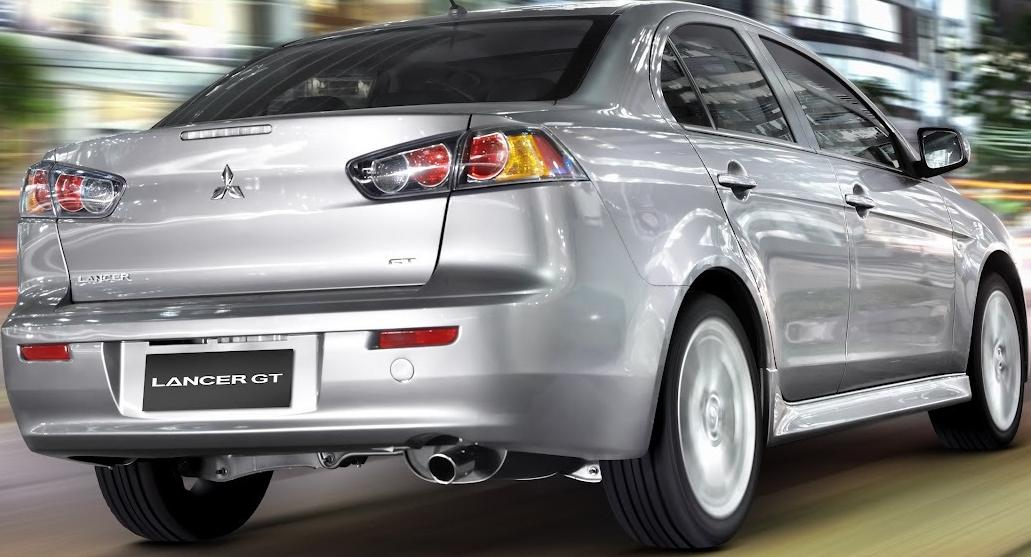back_view: (0, 134, 673, 526)
backlight: (337, 121, 607, 202)
side_glass: (691, 9, 920, 140)
